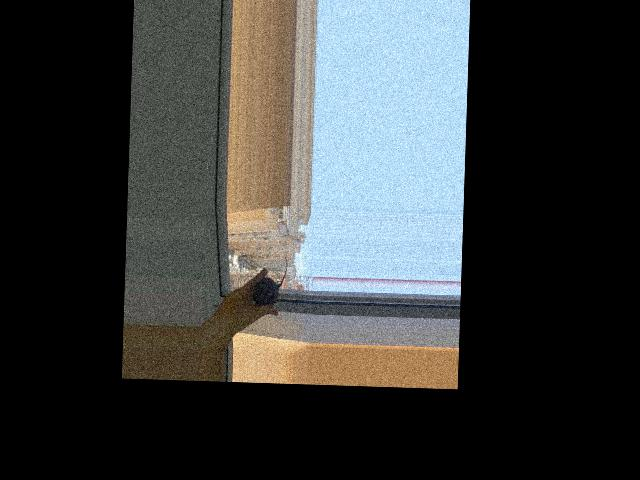beet: (252, 254, 287, 305)
